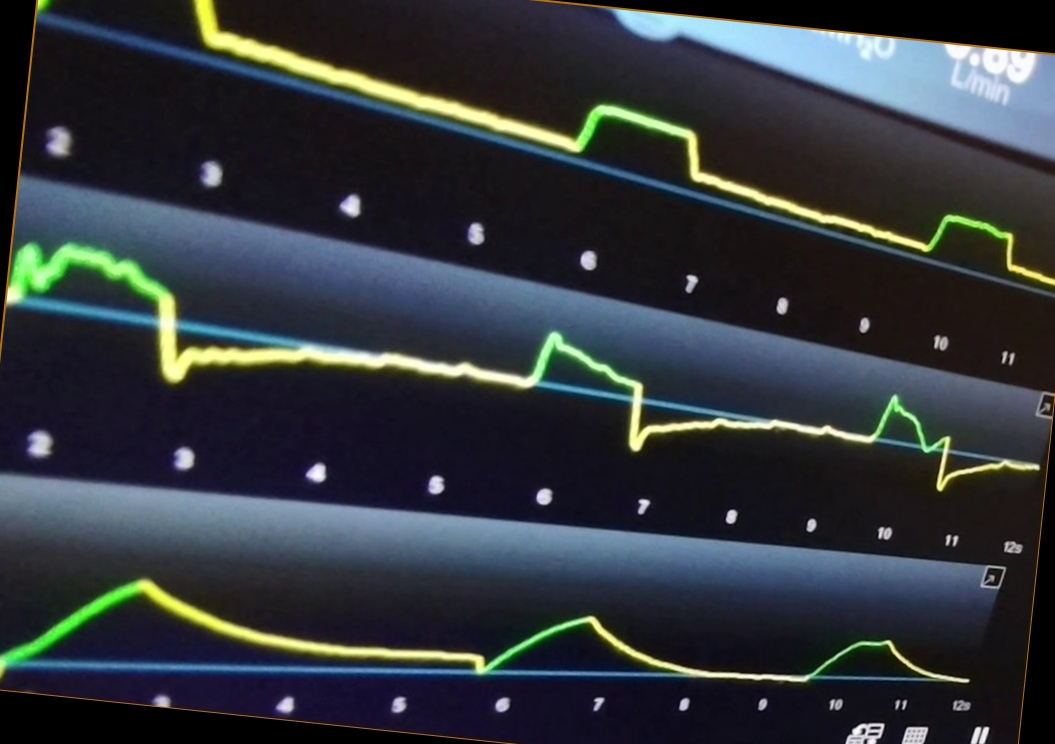Double_Triggering Flow: (11, 244, 993, 494)
Double_Triggering Volume: (13, 558, 967, 697)
